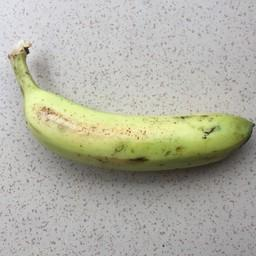Banana Ripe: (0, 67, 256, 204)
